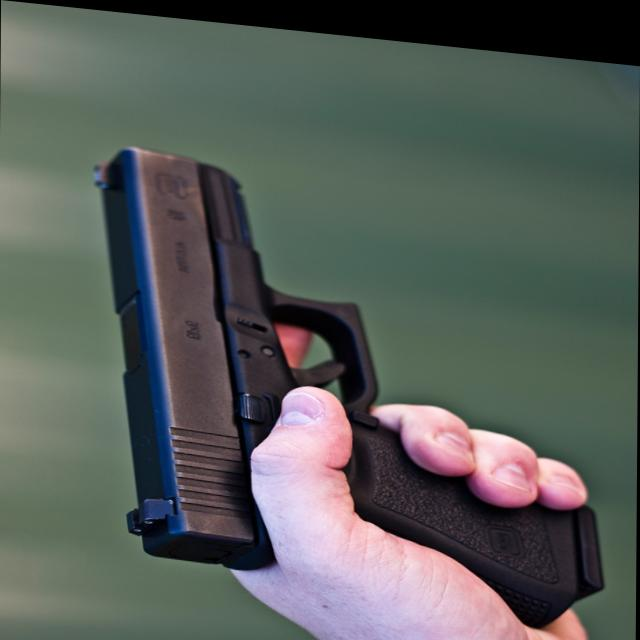handgun: (85, 142, 609, 622)
